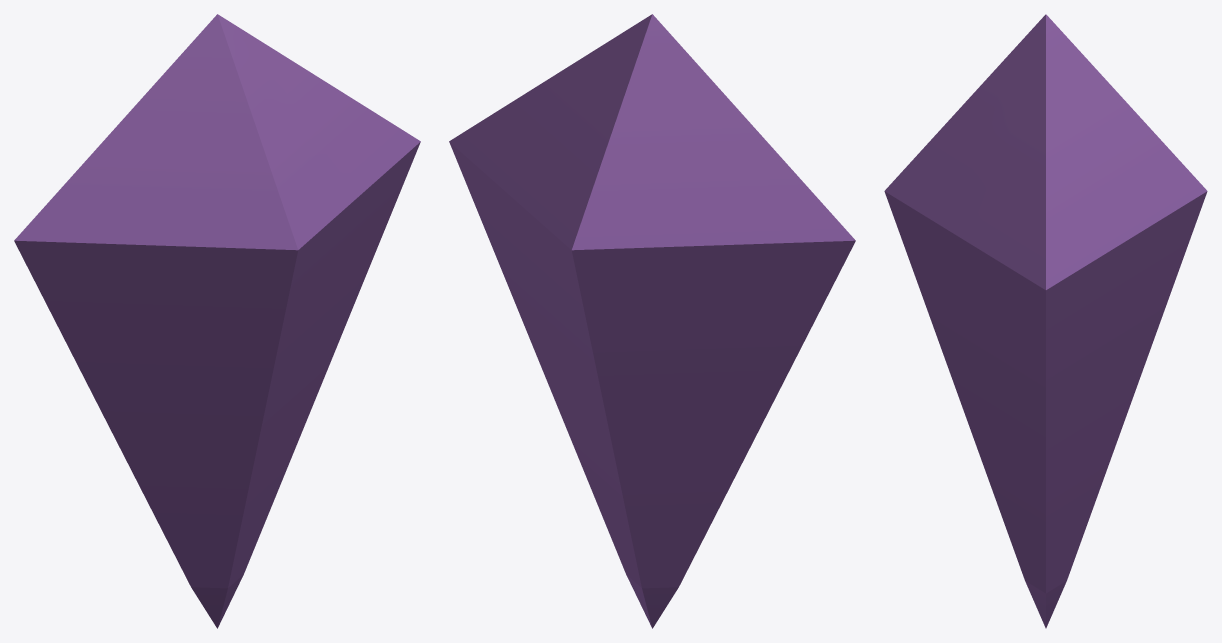
The model's file is diamond.fbx.
3 views of the same model, side by side, from view 1: azimuth 30°, elevation 25°; view 2: azimuth 150°, elevation 25°; view 3: azimuth 270°, elevation 25° (orthographic).
Visible parts, largest first — view 1: diamond_purple; view 2: diamond_purple; view 3: diamond_purple.
Boxes of the visible parts, x1,y1,x2,y2 form: diamond_purple: [14, 14, 420, 628]; diamond_purple: [449, 14, 855, 628]; diamond_purple: [884, 14, 1207, 628].
Size of the model in its own units: 1.44 by 2.08 by 0.9901.
